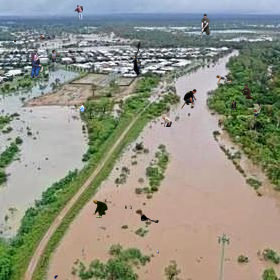Human: (238, 100, 262, 121), (30, 53, 50, 78), (123, 55, 145, 76), (181, 89, 197, 110), (92, 199, 108, 218), (199, 14, 211, 38), (238, 84, 254, 99), (140, 213, 159, 223), (216, 75, 232, 84), (74, 5, 83, 20), (162, 116, 172, 127), (51, 50, 60, 62), (75, 103, 86, 112), (136, 42, 142, 54), (231, 100, 237, 111), (39, 34, 45, 43), (218, 120, 222, 128), (125, 205, 132, 209), (54, 275, 58, 279), (19, 219, 22, 223), (114, 125, 117, 129), (157, 250, 159, 255), (12, 74, 14, 78), (68, 119, 70, 123), (14, 39, 16, 42), (214, 184, 215, 187), (159, 49, 160, 51)
